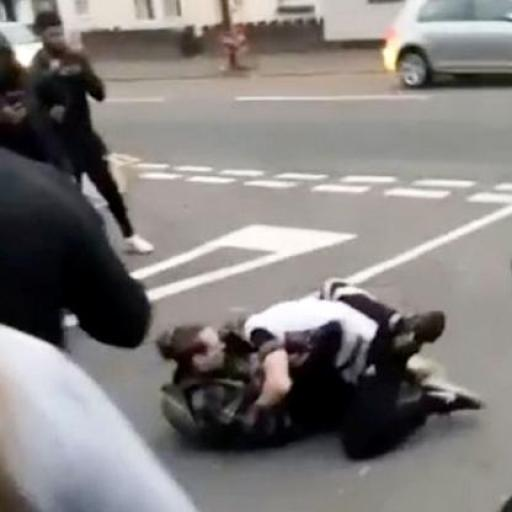Fighting: (152, 275, 485, 461)
